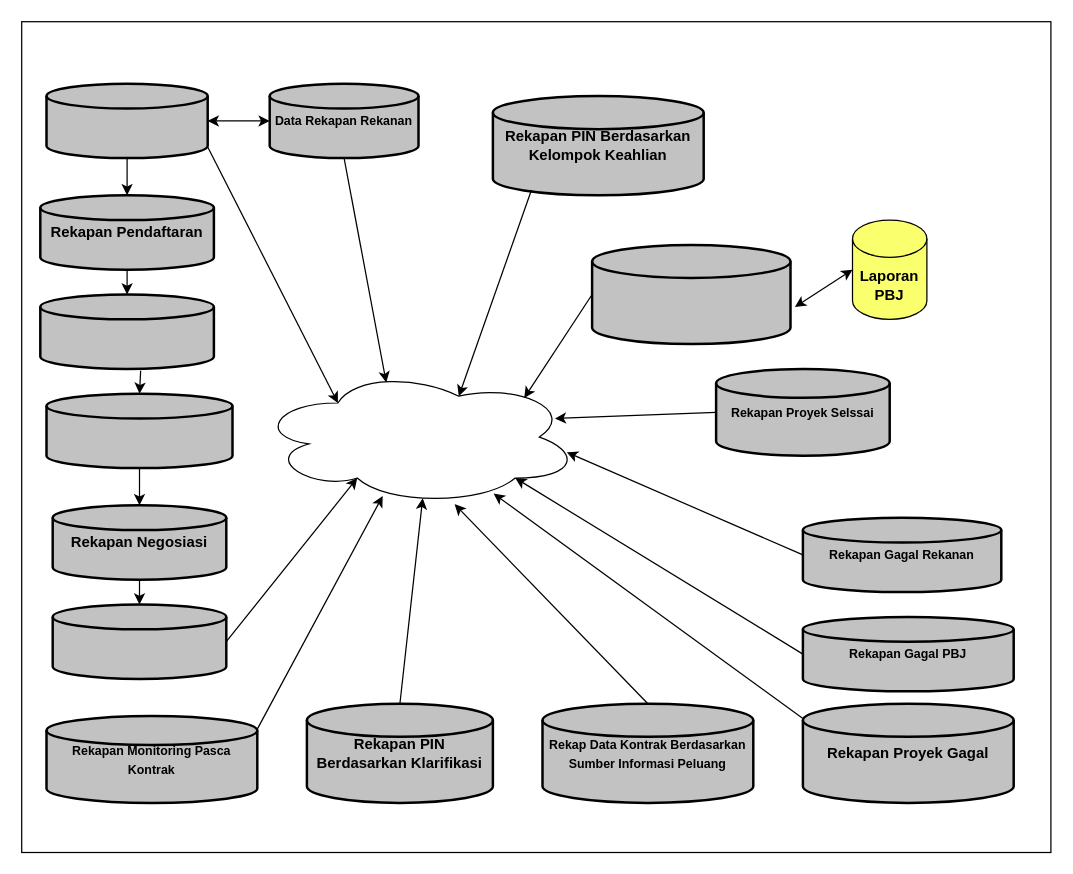
Some shapes in this 1073 by 874 pixel diagram are drawn without their labels. Here are the shapes that lost their labels. From the top down, the centre of each, then its label:
point (126, 120): Data Profile
point (690, 294): Rekapitulisasi Kegiatan Proyek
point (126, 331): Rekapan Prakualifikasi
point (139, 430): Rekapan Proposal
point (418, 436): Cloud System
point (139, 641): Rekapan Kontrak
